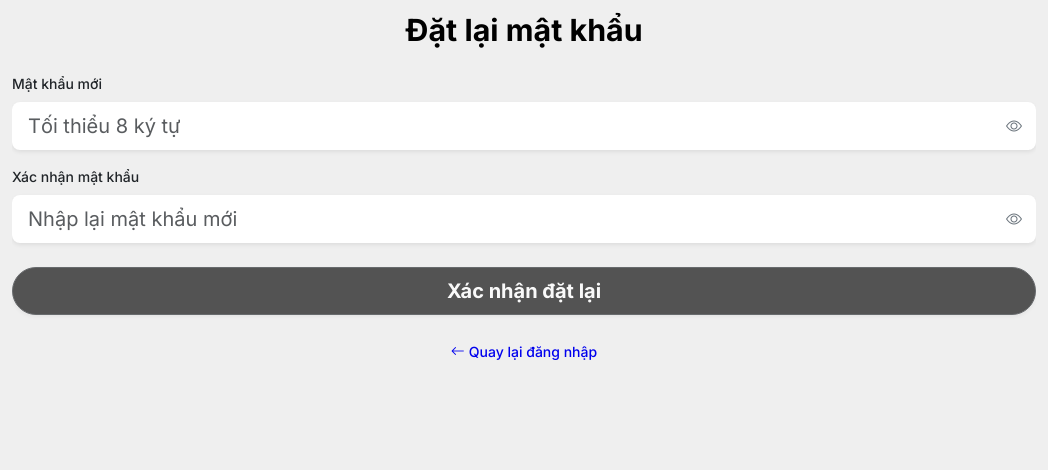
Test: ResetPwdForm Component › handles reset failure due to used password (AUTH_PWD_001)
Type "secret123" into the password field with test id "password-input" at (524, 126), box [12,102,1036,150]
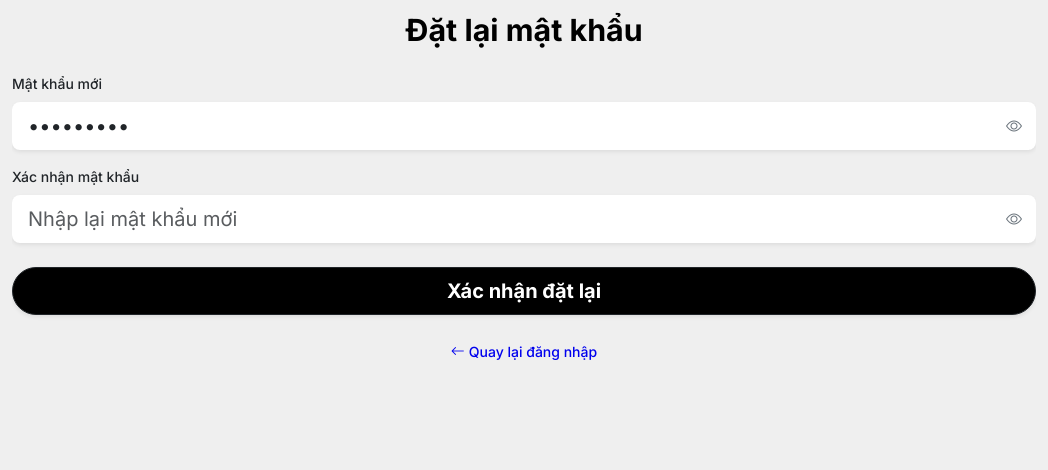
Type "secret123" into the password field with test id "confirm-password-input" at (524, 218), box [12,194,1036,242]
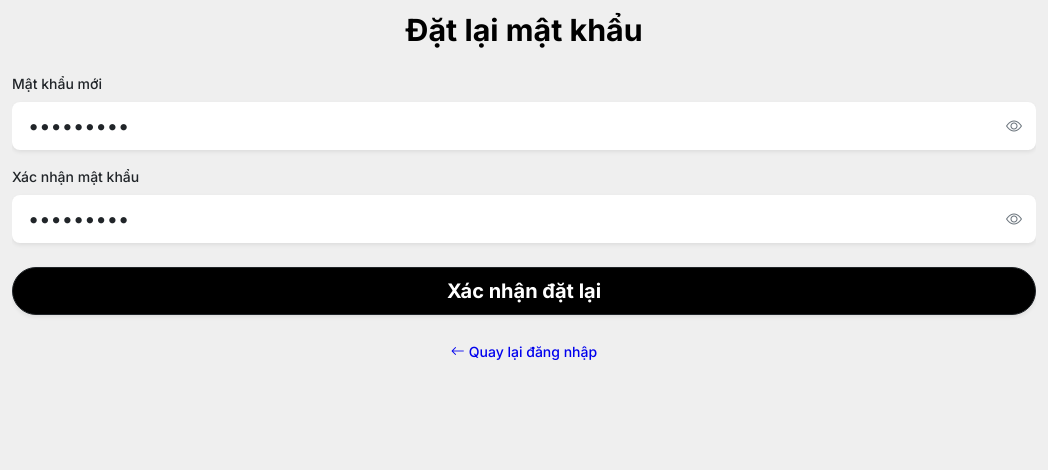
Click the button with test id "submit-btn" at (524, 290), box [12,266,1036,314]
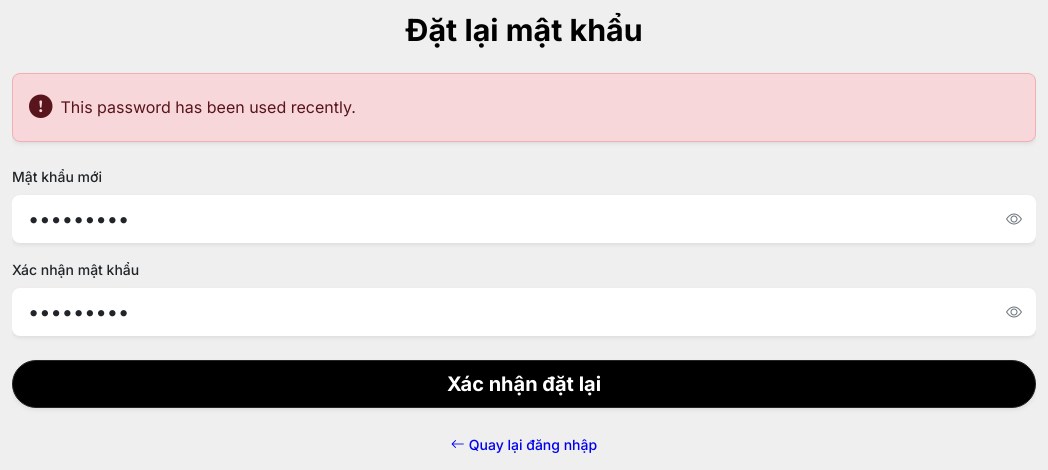
Expected: the password field with test id "password-input" is enabled, [12,195,1036,243]
Result: the message "This password has been used recently." is shown at [12,72,1036,142]
Result: the message with test id "error-alert" reads "This password has been used recently." at [60,97,356,117]
